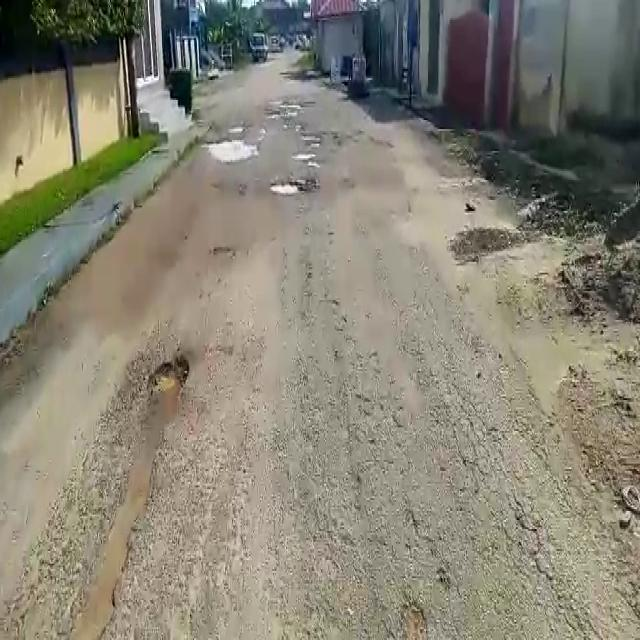Pothole: (148, 356, 187, 402), (206, 136, 260, 160), (266, 179, 308, 198), (292, 151, 316, 162)
